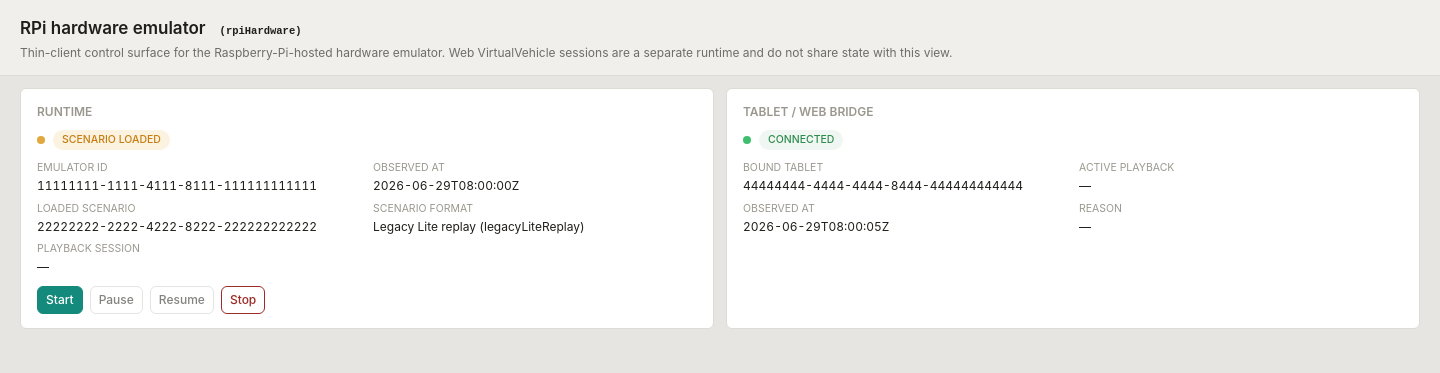
Scenario: RpiEmulatorScreen › surfaces command rejection as inline alert
Expected: the heading "RPi hardware emulator (rpiHardware)" is shown, [20,18,302,38]
Click the button "Start": (60, 300) [37,286,83,314]
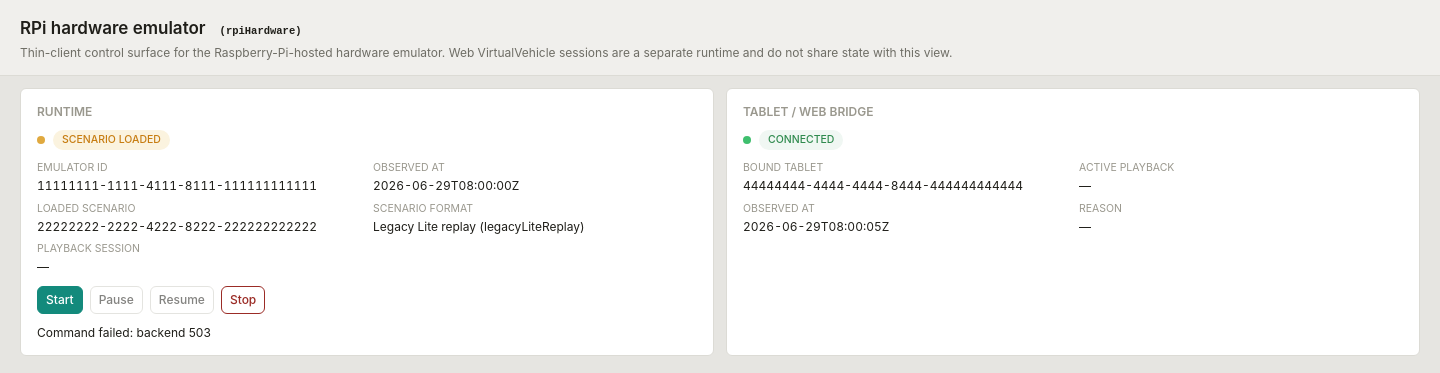
Result: the text "Command failed: backend 503" is shown at [37,325,211,340]
